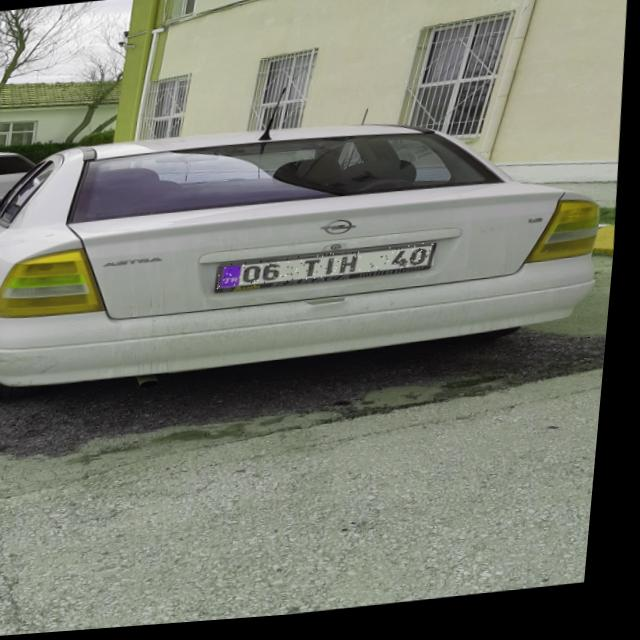plate: (222, 249, 441, 292)
